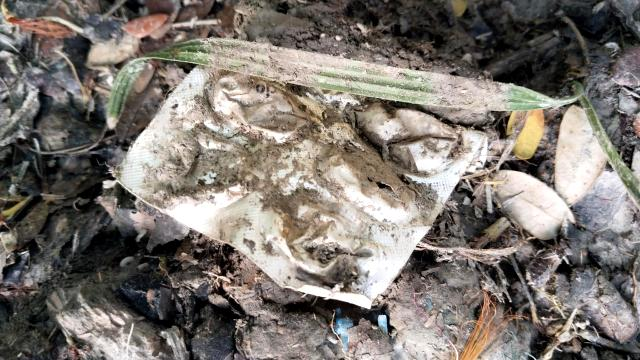medicine: (88, 26, 483, 322)
